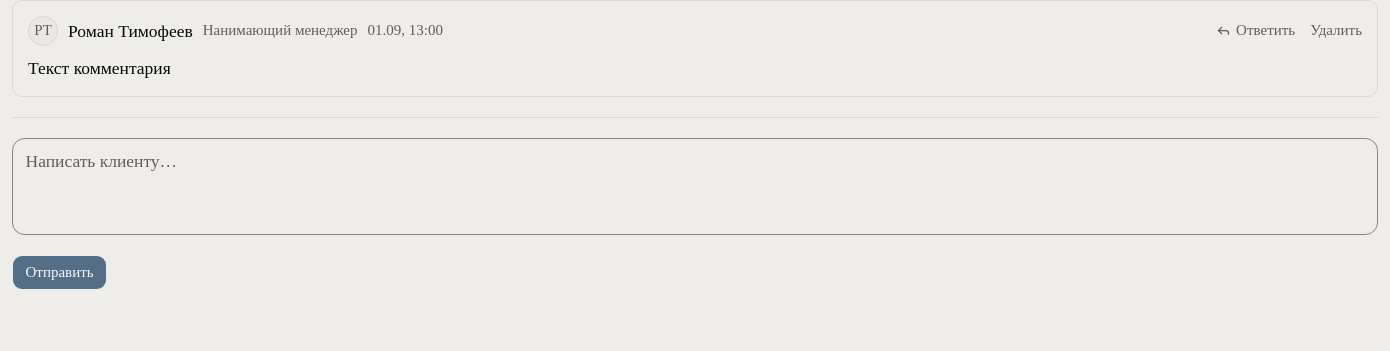
it: чужая реплика, с правом comment.deleteAny › подтверждение называет автора по имени — не общей фразой
Click the button "Удалить" at [1336, 31], box left=1310, top=21, right=1362, bottom=41
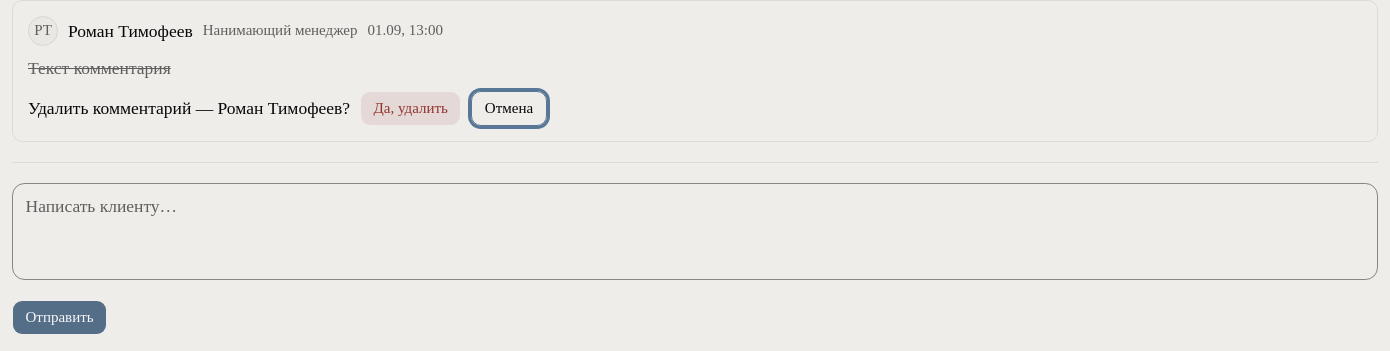
expect the text "Удалить комментарий — Роман Тимофеев?" is shown: met, box left=28, top=96, right=350, bottom=121
